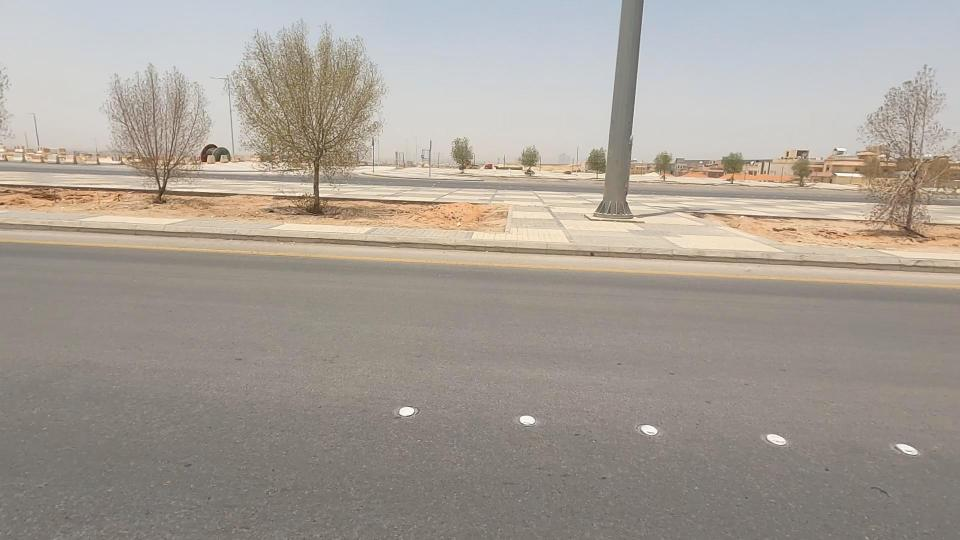CLUTTER_SIDEWALK: (639, 188, 883, 261), (351, 173, 540, 251), (0, 163, 188, 238)
